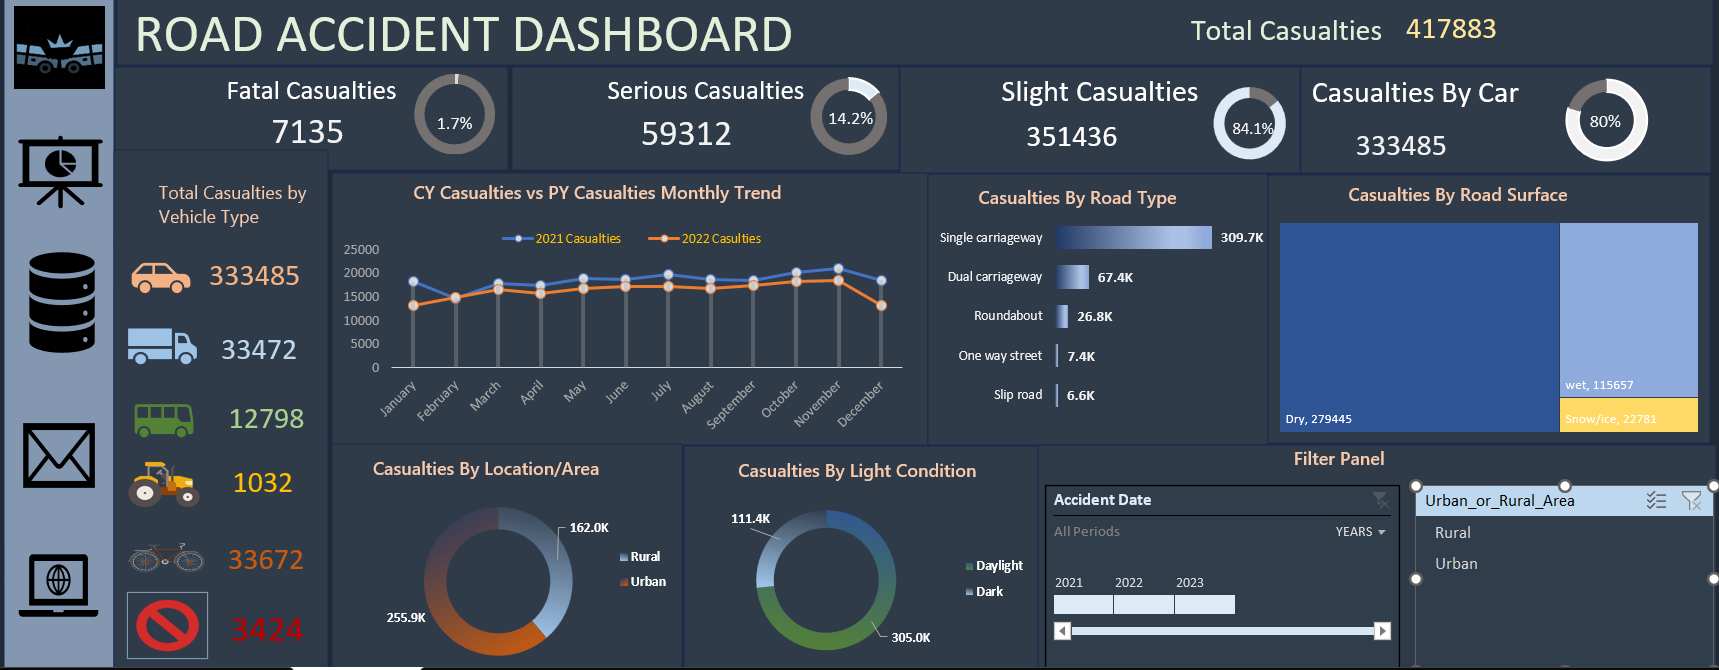

The page's visual inventory and layout, read from the dashboard file:
{"tool":"powerbi","page":{"name":"Page 1","canvas":[1280,720],"ordinal":0},"visuals":[{"type":"card","title":"Total CY Casualties","fields":{"Values":["Data.CY Casualties"]},"box":[12.3,98.8,230.5,87.8],"z":0},{"type":"card","fields":{"Values":["Data.YOY Casualties"]},"box":[78.2,163.3,97.4,46.7],"z":1000},{"type":"card","title":"Total CY Accidents","fields":{"Values":["Data.CY Accidents"]},"box":[267.6,98.8,230.5,87.8],"z":2000},{"type":"card","fields":{"Values":["Data.YoY Accidents"]},"box":[333.4,163.3,97.4,46.7],"z":3000},{"type":"card","title":"CY Fatal Casualties","fields":{"Values":["Data.CY Casualties"]},"box":[524.2,98.8,230.5,87.8],"z":4000},{"type":"card","fields":{"Values":["Data.YOY Casualties"]},"box":[590.1,163.3,97.4,46.7],"z":5000},{"type":"card","title":"CY Serious Casualties","fields":{"Values":["Data.CY Casualties"]},"box":[778,98.8,230.5,87.8],"z":6000},{"type":"card","fields":{"Values":["Data.YOY Casualties"]},"box":[834.3,163.3,97.4,46.7],"z":7000},{"type":"card","title":"CY Slight Casualties","fields":{"Values":["Data.CY Casualties"]},"box":[1033.3,98.8,230.5,87.8],"z":8000},{"type":"card","fields":{"Values":["Data.YOY Casualties"]},"box":[1100.5,163.3,97.4,46.7],"z":9000},{"type":"textbox","box":[12.3,13.7,551.6,57.6],"z":10000},{"type":"multiRowCard","fields":{"Values":["Data.Vehicle_Type (groups)","Data.CY Casualties"]},"box":[123.1,277.5,137.5,419.8],"z":11000},{"type":"image","box":[24.1,277.5,80.8,78.4],"z":12000},{"type":"image","box":[29,359.5,80.8,73.6],"z":13000},{"type":"image","box":[31.4,424.7,70,78.4],"z":14000},{"type":"image","box":[21.7,567,74.8,70],"z":15000},{"type":"image","box":[21.7,492.2,88.1,91.7],"z":16000},{"type":"image","box":[25.3,624.9,76,95.3],"z":17000},{"type":"textbox","box":[21.7,230.4,201.5,42.2],"z":18000},{"type":"areaChart","title":"CY Casualties VS PY Casualties Monthly Trend","fields":{"Category":["Calendar.Month"],"Y":["Sum(Data.Number_of_Casualties)"],"Series":["Calendar.Date.Variation.Date Hierarchy.Year"]},"box":[260.6,228,448.8,220.8],"z":19000},{"type":"donutChart","title":"Casualties by Urban/Rural","fields":{"Category":["Data.Urban_or_Rural_Area"],"Y":["Data.CY Casualties"]},"box":[729.9,228,238.9,220.8],"z":20000},{"type":"donutChart","title":" Casualties by Light Condition","fields":{"Y":["Data.CY Casualties"],"Category":["Data.Light_Conditions (groups)"]},"box":[729.9,471.7,238.9,223.2],"z":21000},{"type":"barChart","title":"Casualties by Road Type","fields":{"Category":["Data.Road_Type"],"Y":["Data.CY Casualties"]},"box":[267.8,474.1,439.1,220.8],"z":22000},{"type":"slicer","fields":{"Values":["Data.Weather_Conditions (groups)"]},"box":[1043.6,13.3,219.6,57.9],"z":23000},{"type":"slicer","fields":{"Values":["Data.Road_Surface_Conditions (groups)"]},"box":[808.3,13.3,224.4,57.9],"z":24000},{"type":"clusteredBarChart","title":"Top 10 Location By No OF Casualties","fields":{"Category":["Data.Local_Authority_(District)"],"Y":["Sum(Data.Number_of_Casualties)"]},"box":[992.9,228,270.2,477.8],"z":25000},{"type":"slicer","fields":{"Values":["Calendar.Year"]},"box":[577.9,13.3,230.4,57.9],"z":25001}]}

Visuals, with their boxes on the page's 1280x720 design canvas (x1, y1, x2, y2). These are canvas units, not pixel positions in the 1719x670 screenshot, which may show the page scaled, cropped or inside an application window:
"Total CY Casualties" card: 12,99,243,187
card - Data.YOY Casualties: 78,163,176,210
"Total CY Accidents" card: 268,99,498,187
card - Data.YoY Accidents: 333,163,431,210
"CY Fatal Casualties" card: 524,99,755,187
card - Data.YOY Casualties: 590,163,688,210
"CY Serious Casualties" card: 778,99,1008,187
card - Data.YOY Casualties: 834,163,932,210
"CY Slight Casualties" card: 1033,99,1264,187
card - Data.YOY Casualties: 1100,163,1198,210
textbox: 12,14,564,71
multiRowCard - Data.Vehicle_Type (groups) x Data.CY Casualties: 123,278,261,697
image: 24,278,105,356
image: 29,360,110,433
image: 31,425,101,503
image: 22,567,96,637
image: 22,492,110,584
image: 25,625,101,720
textbox: 22,230,223,273
"CY Casualties VS PY Casualties Monthly Trend" areaChart: 261,228,709,449
"Casualties by Urban/Rural" donutChart: 730,228,969,449
" Casualties by Light Condition" donutChart: 730,472,969,695
"Casualties by Road Type" barChart: 268,474,707,695
slicer - Data.Weather_Conditions (groups): 1044,13,1263,71
slicer - Data.Road_Surface_Conditions (groups): 808,13,1033,71
"Top 10 Location By No OF Casualties" clusteredBarChart: 993,228,1263,706
slicer - Calendar.Year: 578,13,808,71
